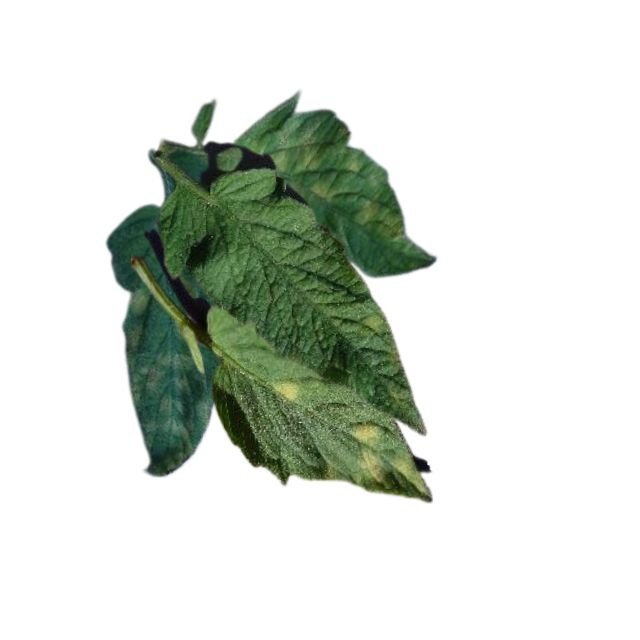Leaf_Mold: (247, 115, 412, 246), (122, 289, 214, 477), (345, 419, 432, 504), (348, 310, 387, 344), (268, 374, 301, 403)
